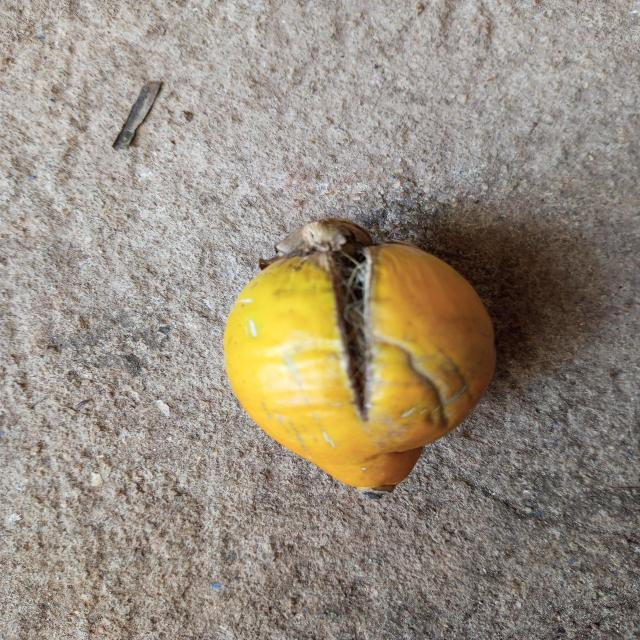damaged: (222, 224, 496, 494)
